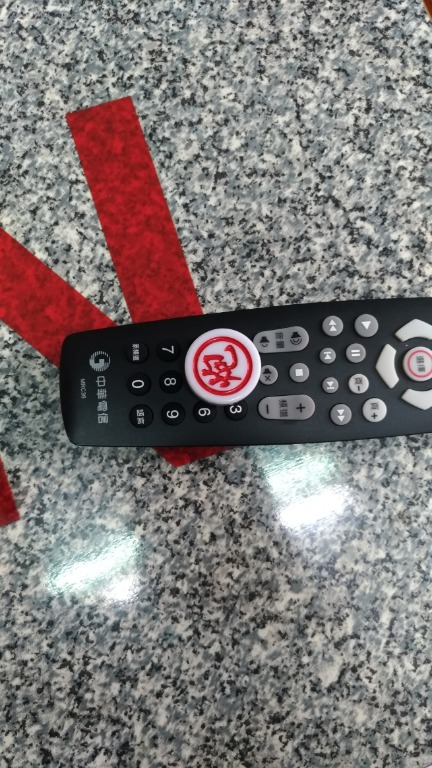r-cannon: (178, 321, 275, 425)
